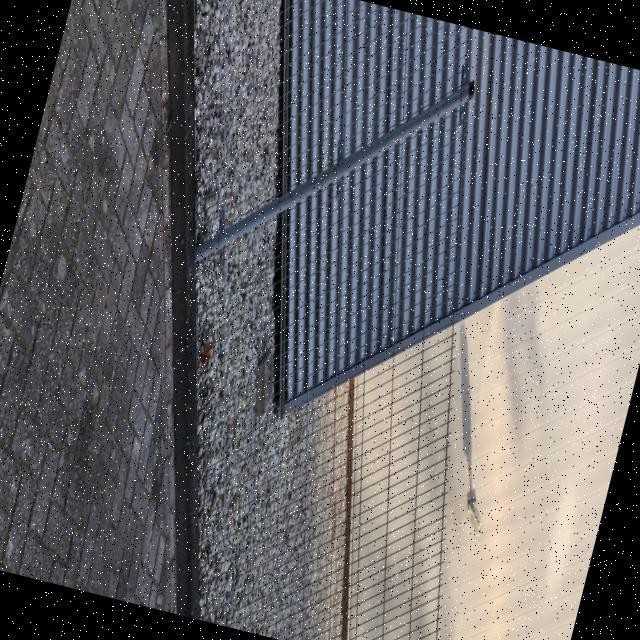fence line: (88, 114, 554, 639), (125, 0, 500, 284)
